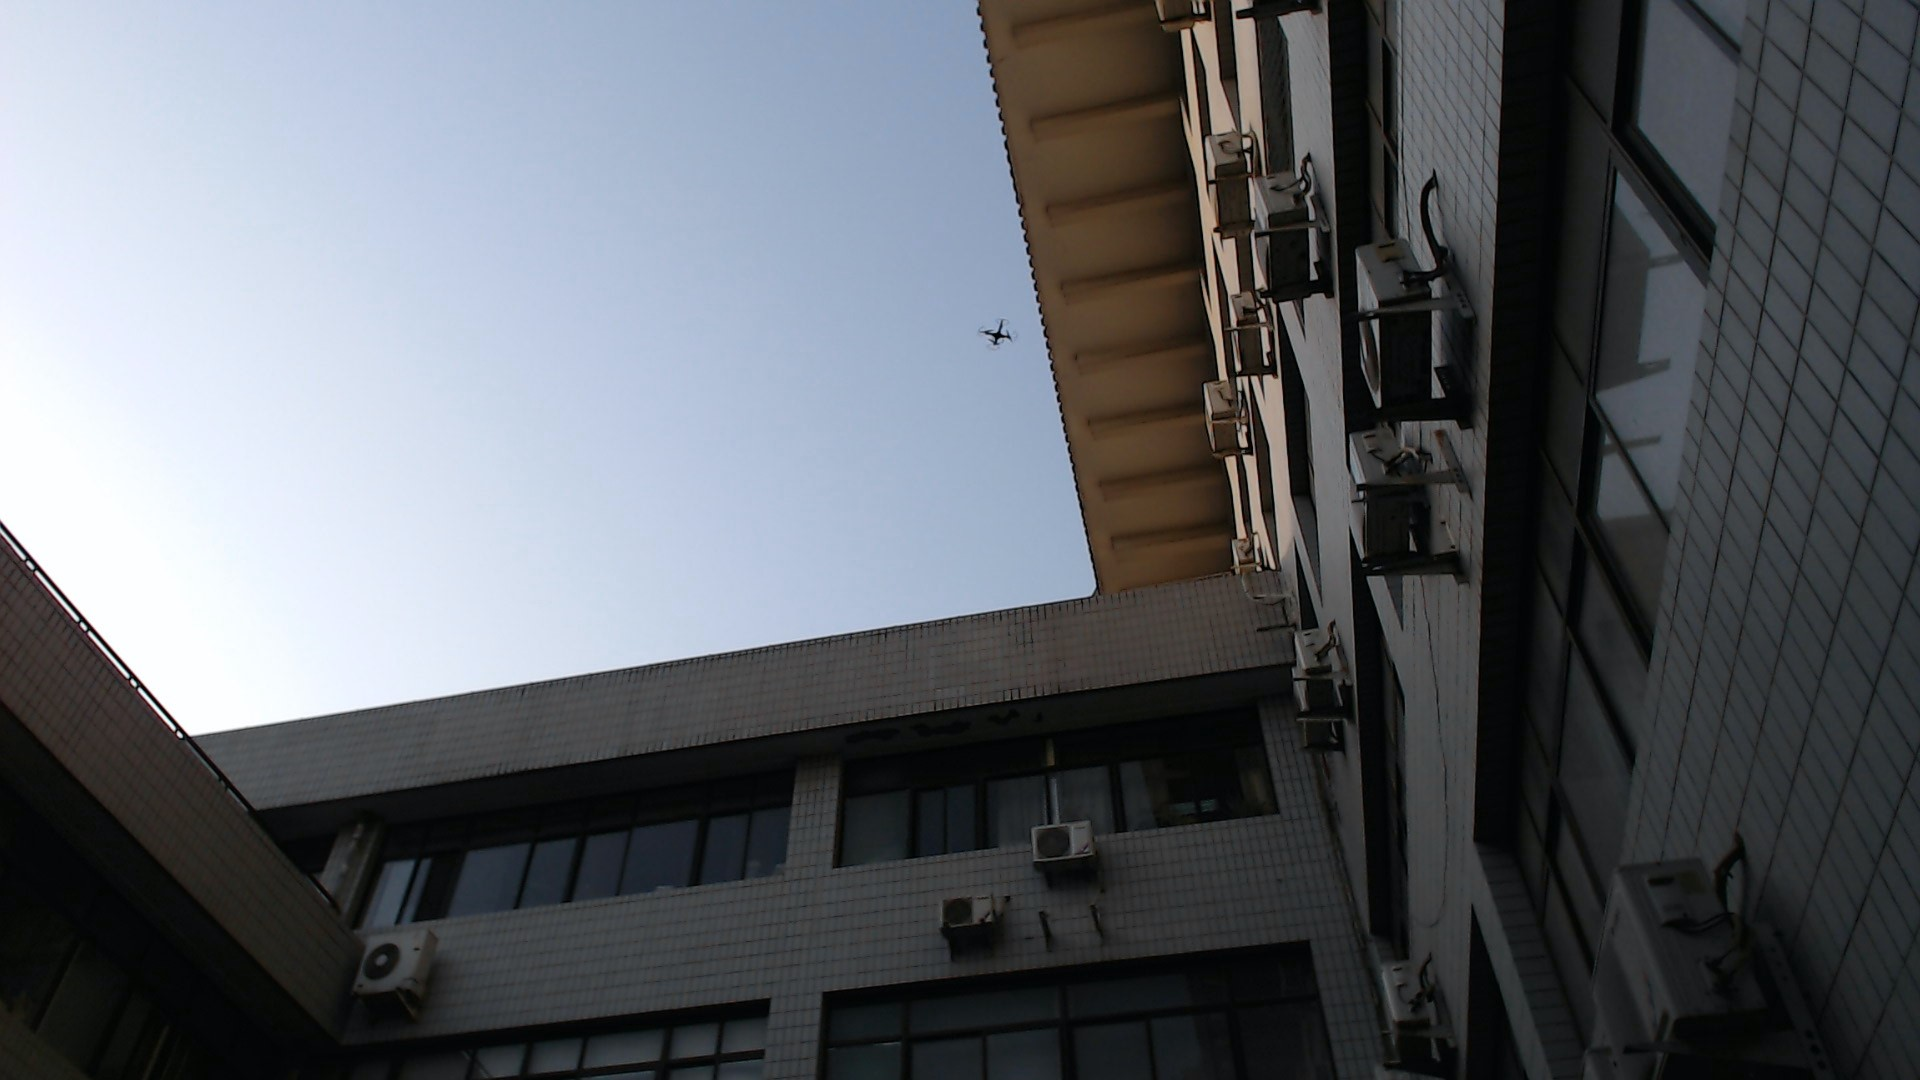drone: (964, 294, 1030, 363)
